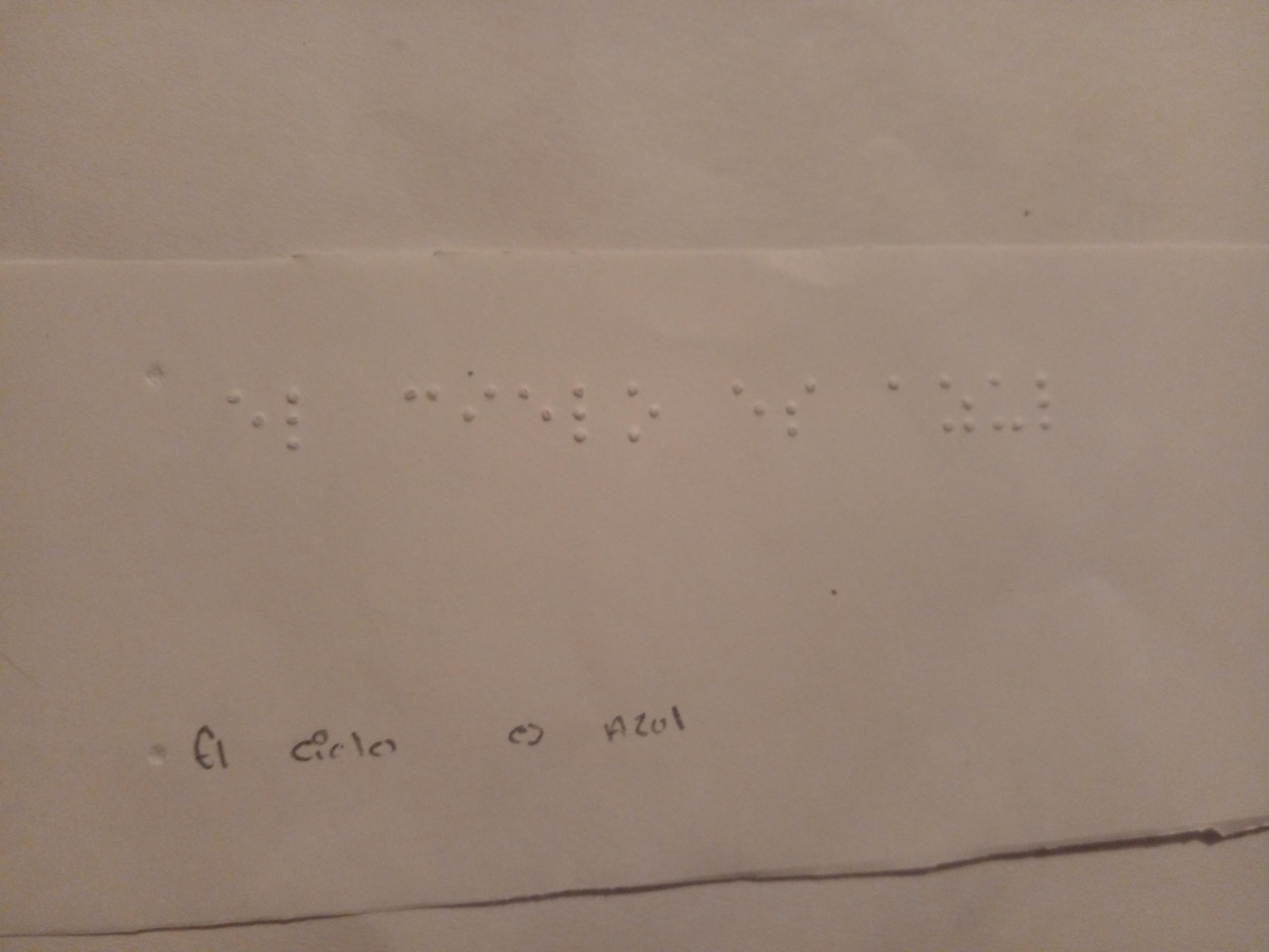a: (885, 372, 920, 418)
c: (393, 364, 441, 435)
e: (220, 377, 274, 446), (728, 369, 773, 439), (516, 378, 559, 445)
i: (452, 375, 511, 446)
l: (277, 377, 311, 471), (1033, 369, 1069, 443), (565, 380, 598, 452)
o: (621, 372, 665, 452)
s: (781, 375, 826, 446)
u: (984, 361, 1030, 448)
z: (931, 375, 985, 442)
